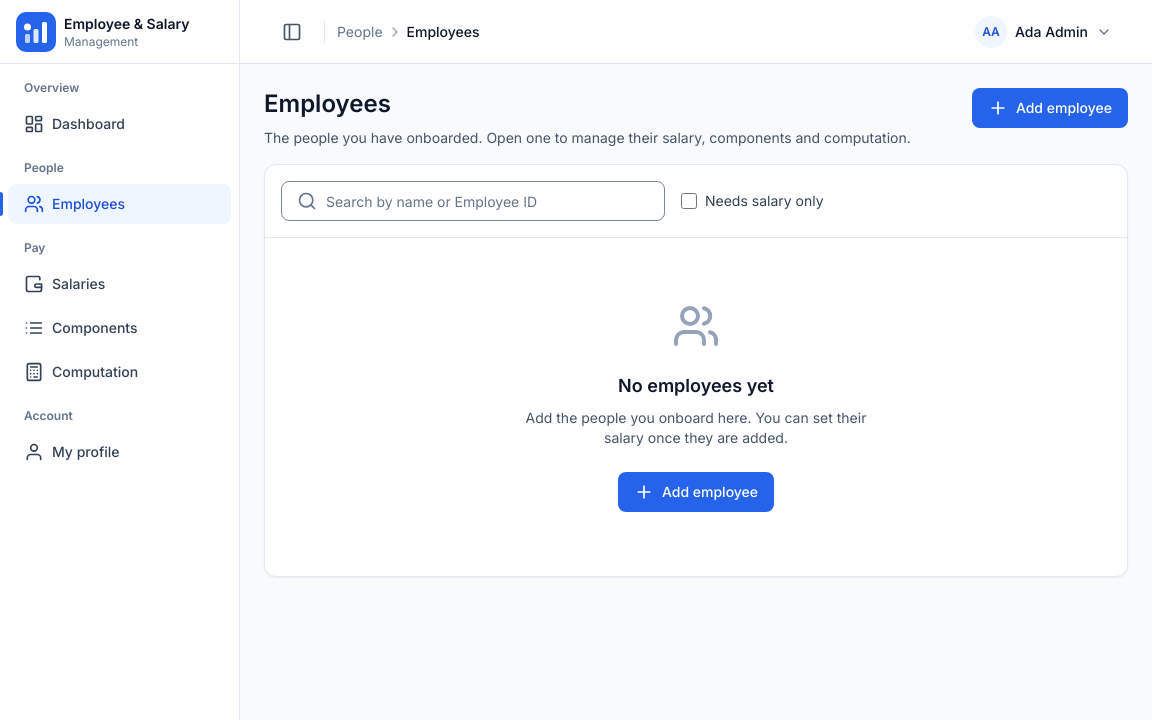
it: UserMenu › closes with Escape and returns focus to the button
expect the heading "Employees" is shown: met, box [264,89,391,118]
Click the button with aria-label "Account menu, Ada Admin" at (1046, 32), box [971,12,1120,52]
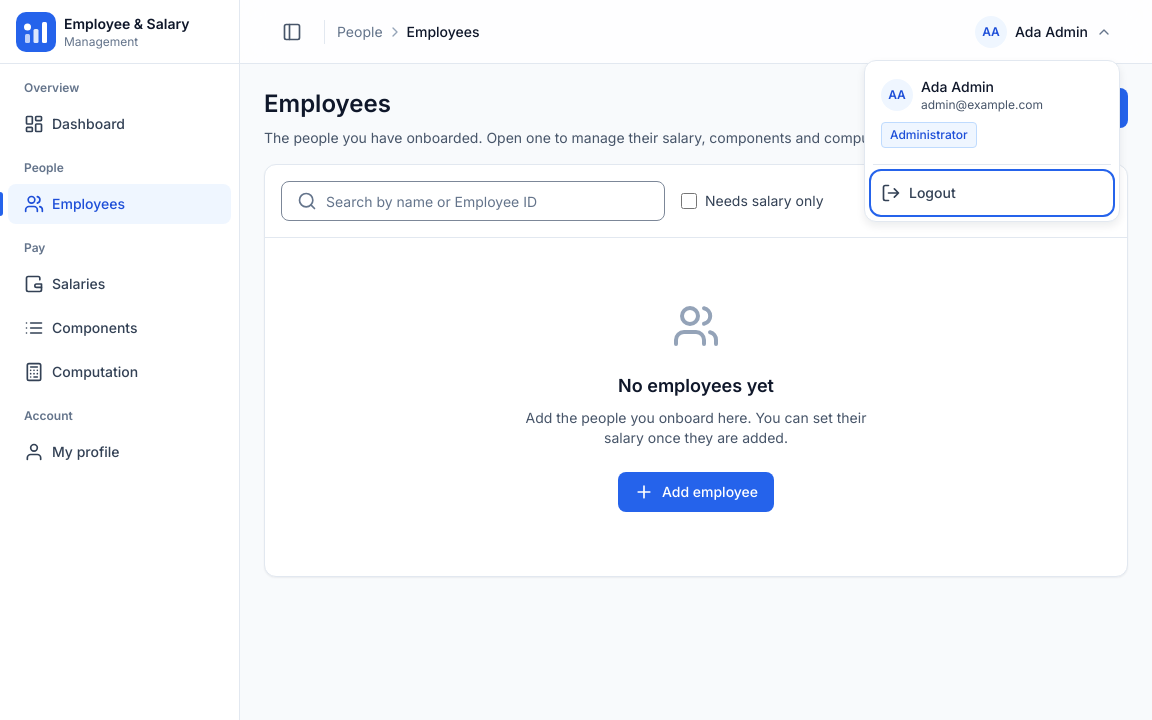
Press Escape
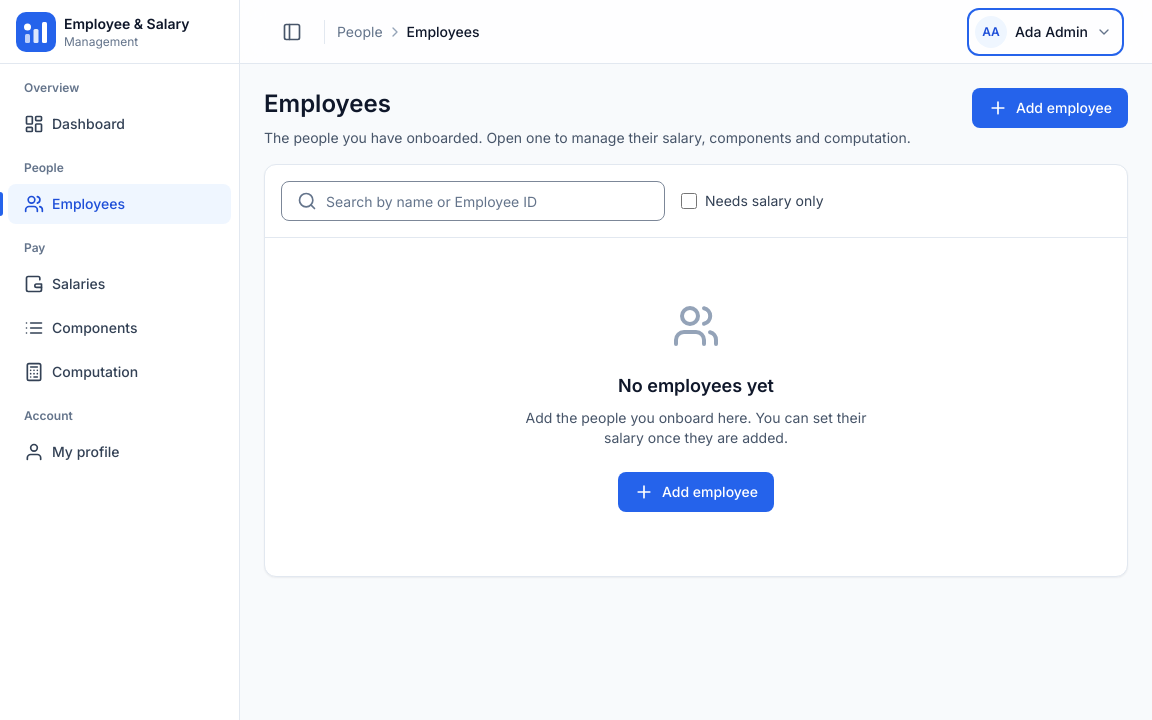
expect the menu is gone: met
expect the button with aria-label "Account menu, Ada Admin" is collapsed: met, box [971,12,1120,52]
